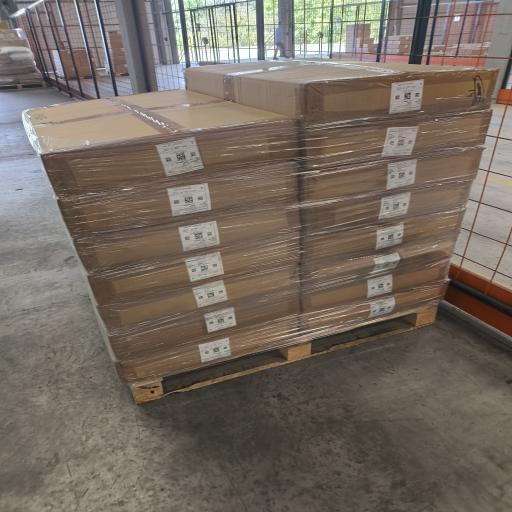pallet: (130, 307, 436, 404), (0, 82, 47, 90), (113, 72, 128, 77)
